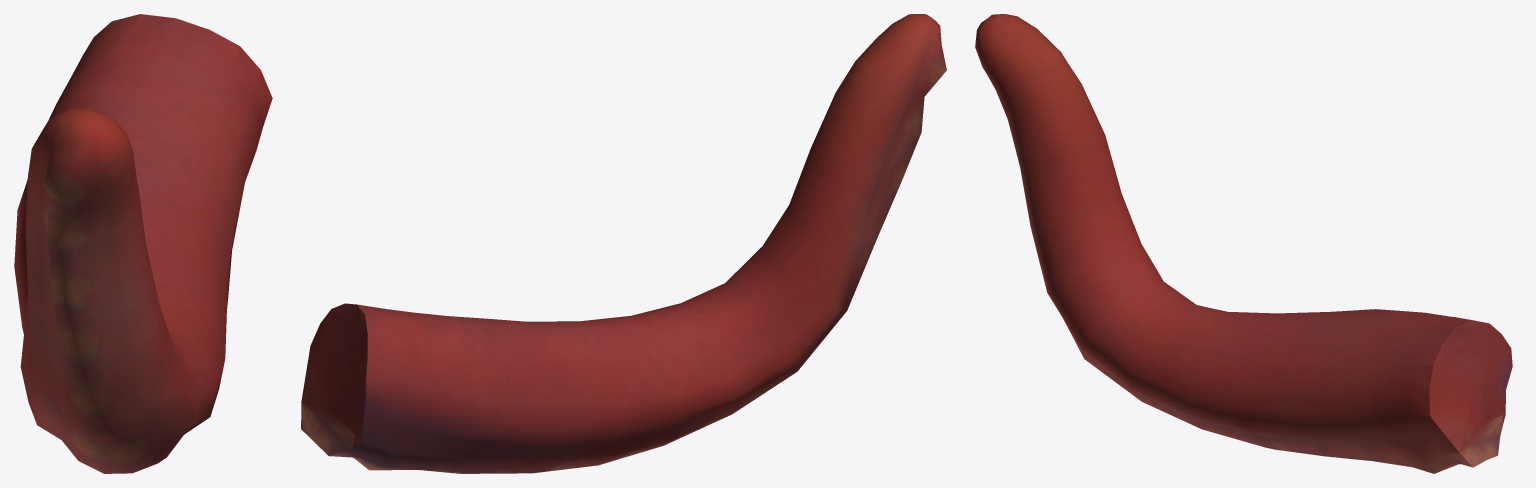
File: tentaculo1.obj
3 views of the same model, side by side, from view 1: azimuth 30°, elevation 25°; view 2: azimuth 150°, elevation 25°; view 3: azimuth 270°, elevation 25° (orthographic). The views are drawn at different scales.
Visible parts, largest first — view 1: Tentacle1; view 2: Tentacle1; view 3: Tentacle1.
Part boxes in pixels (left/top/right/bottom): Tentacle1: left=14, top=14, right=272, bottom=473; Tentacle1: left=301, top=14, right=946, bottom=473; Tentacle1: left=975, top=14, right=1512, bottom=473.
Size of the model in its own units: 221 by 196 by 280.
Materials: 1 (1 with a texture image).
